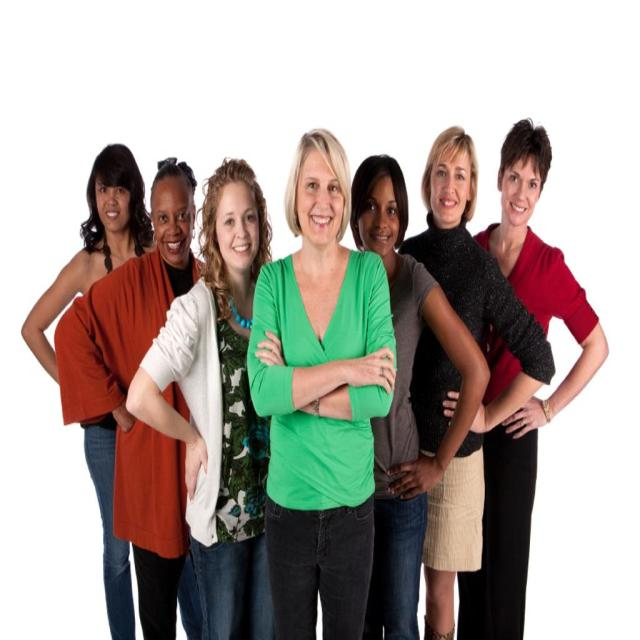Face: (211, 174, 269, 276), (294, 146, 348, 244), (149, 173, 195, 271), (354, 174, 402, 266), (429, 143, 474, 232), (500, 146, 543, 232), (87, 173, 134, 240)
